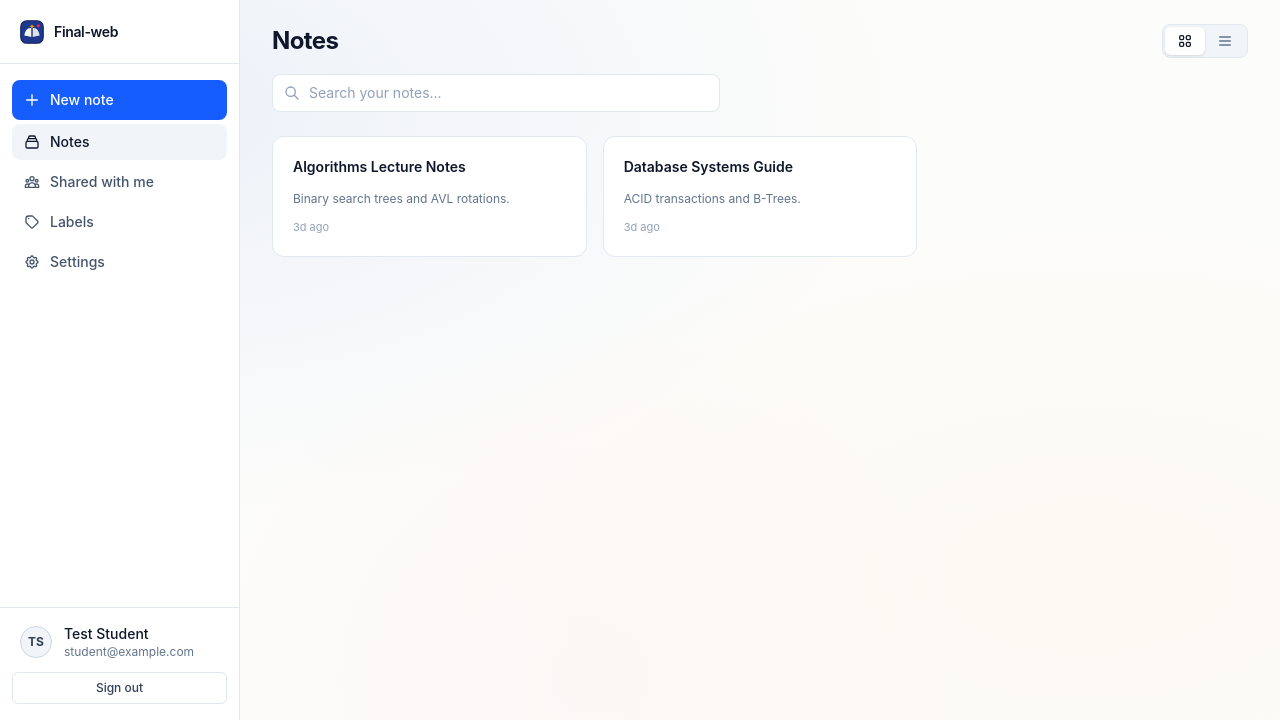
Test: NOTE-07 Live Search Tests › renders search empty state when zero matches returned (distinct from global empty state)
The image size is (1280, 720).
Expected: the number of buttons with test id "note-card" is 2, [272,136,587,256]; [603,136,917,256]
Type "nonexistentquery" into the field with test id "search-input" at coordinates (496, 93), box [272,74,720,112]
Wait 300 ms
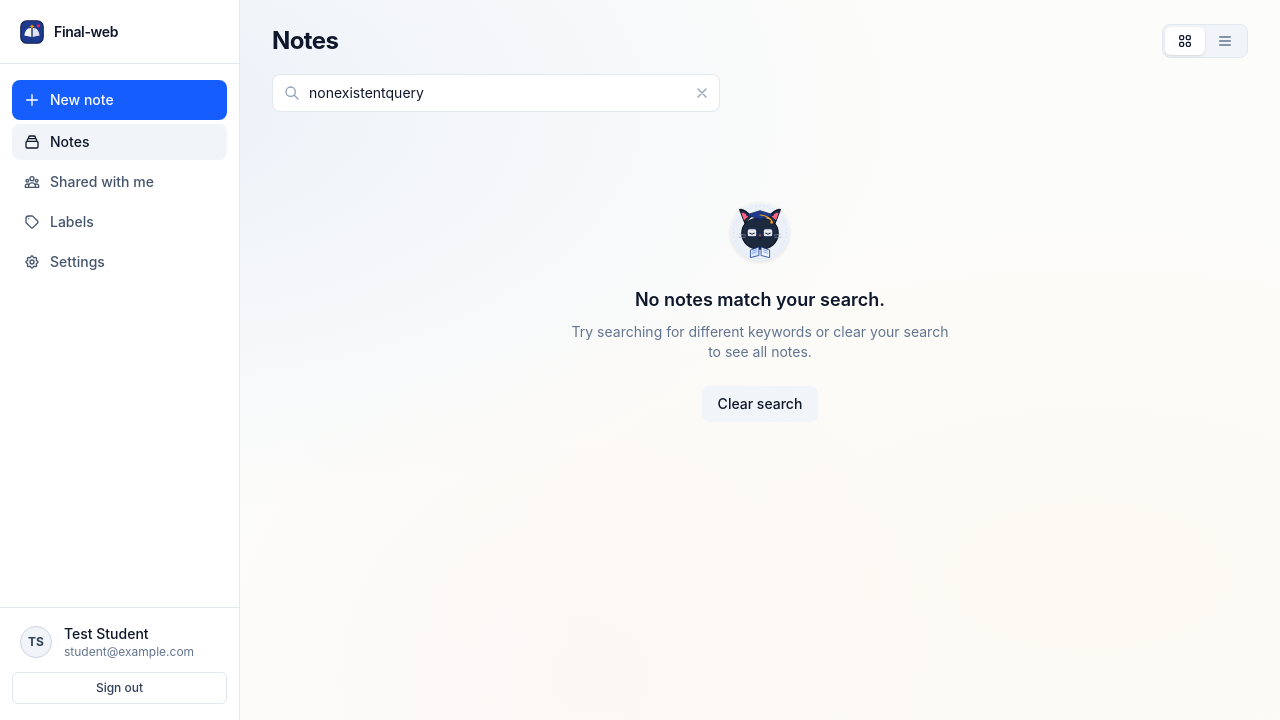
Result: the element with test id "empty-search-state" is shown at [572,200,948,422]
Result: the heading "No notes match your search." is shown at [635,286,885,314]
